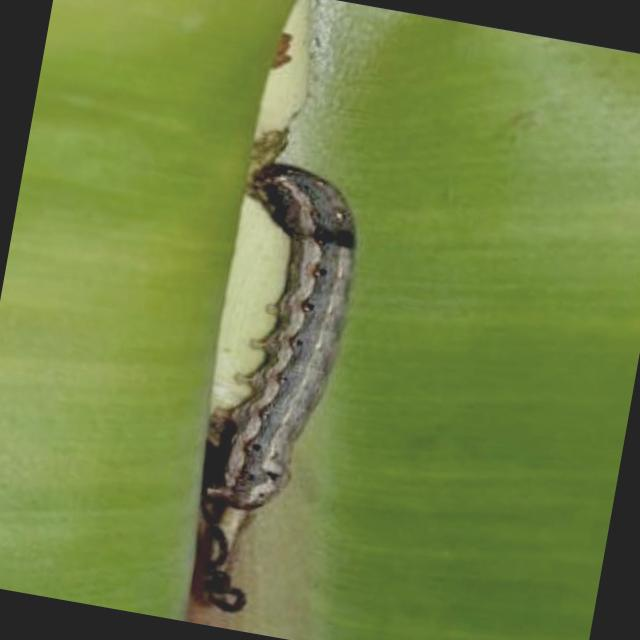Tobacco cutworm: (130, 77, 430, 555)
